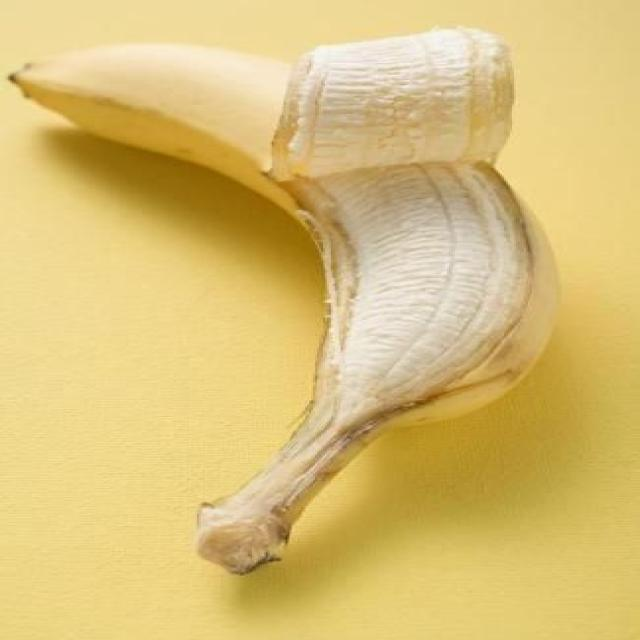banana: (12, 29, 557, 573)
